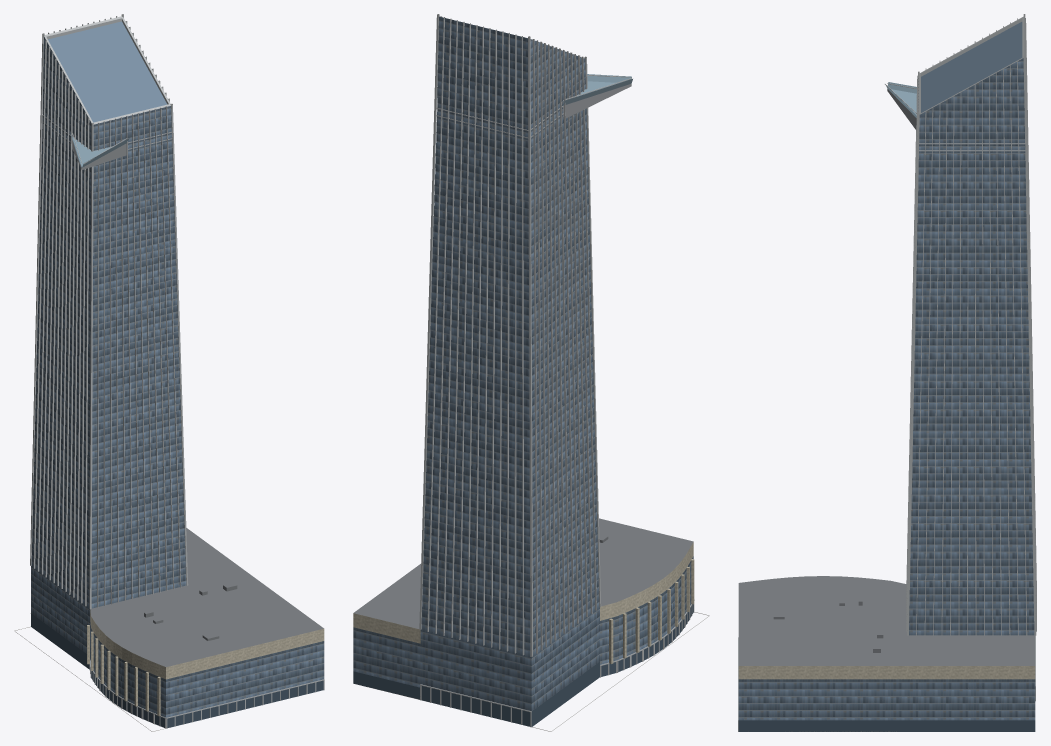
The model's file is hudson_yards_30.glb.
The picture shows the model from 3 angles, left to right: view 1: azimuth 30°, elevation 25°; view 2: azimuth 150°, elevation 25°; view 3: azimuth 270°, elevation 25°; orthographic projection. The views are drawn at different scales.
Visible parts, largest first — view 1: hudson_yards_30; view 2: hudson_yards_30; view 3: hudson_yards_30.
Part boxes in pixels (box(x1,y1,x2,y2)): hudson_yards_30: box(14, 14, 324, 731); hudson_yards_30: box(353, 14, 709, 731); hudson_yards_30: box(738, 14, 1036, 731).
Size of the model in its own units: 120 by 388 by 164.
Materials: 3 (3 with a texture image).
